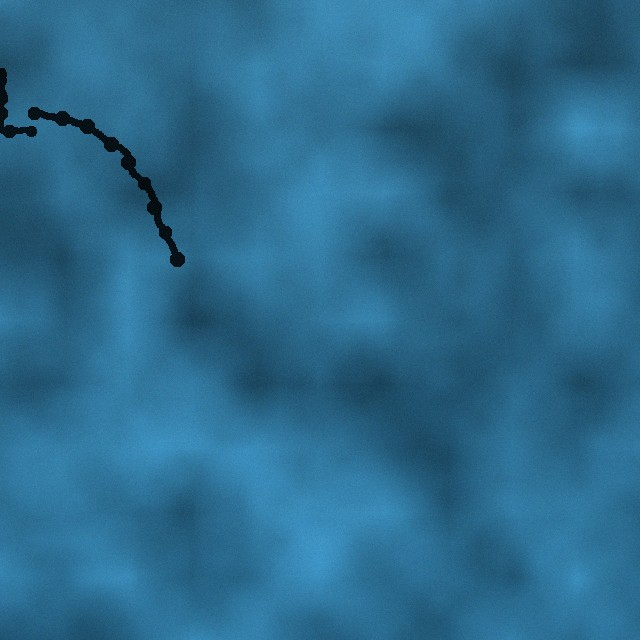crack: (27, 106, 186, 267), (0, 63, 37, 137)
